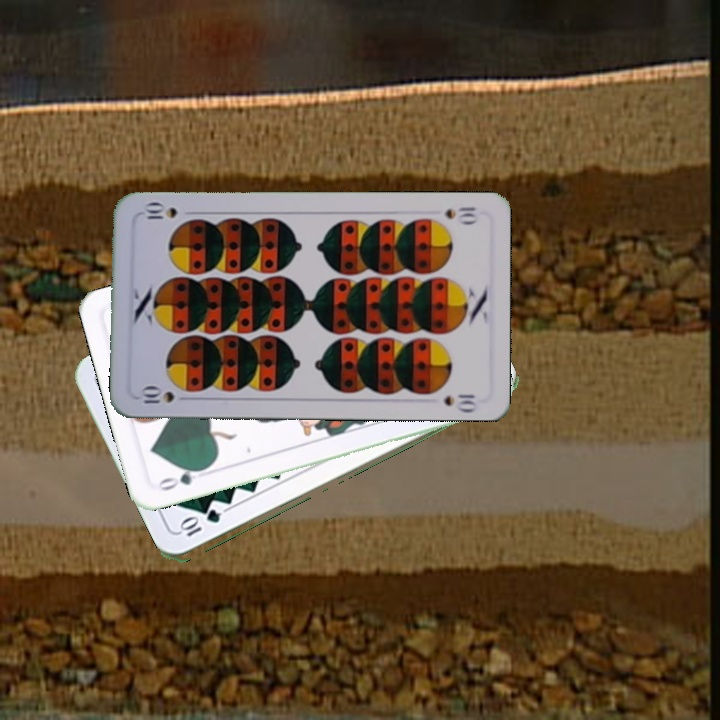G10: (176, 507, 223, 540)
GO: (152, 464, 209, 494)
S10: (137, 384, 193, 407), (440, 203, 479, 226)
